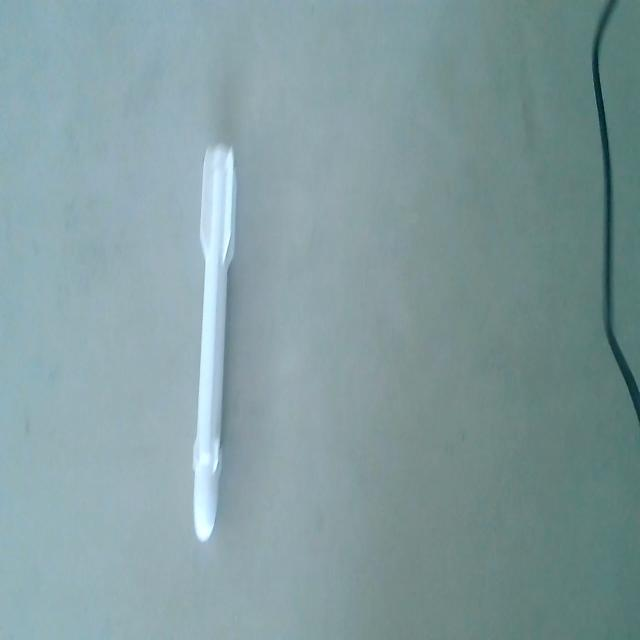Rocket: (188, 142, 238, 550)
